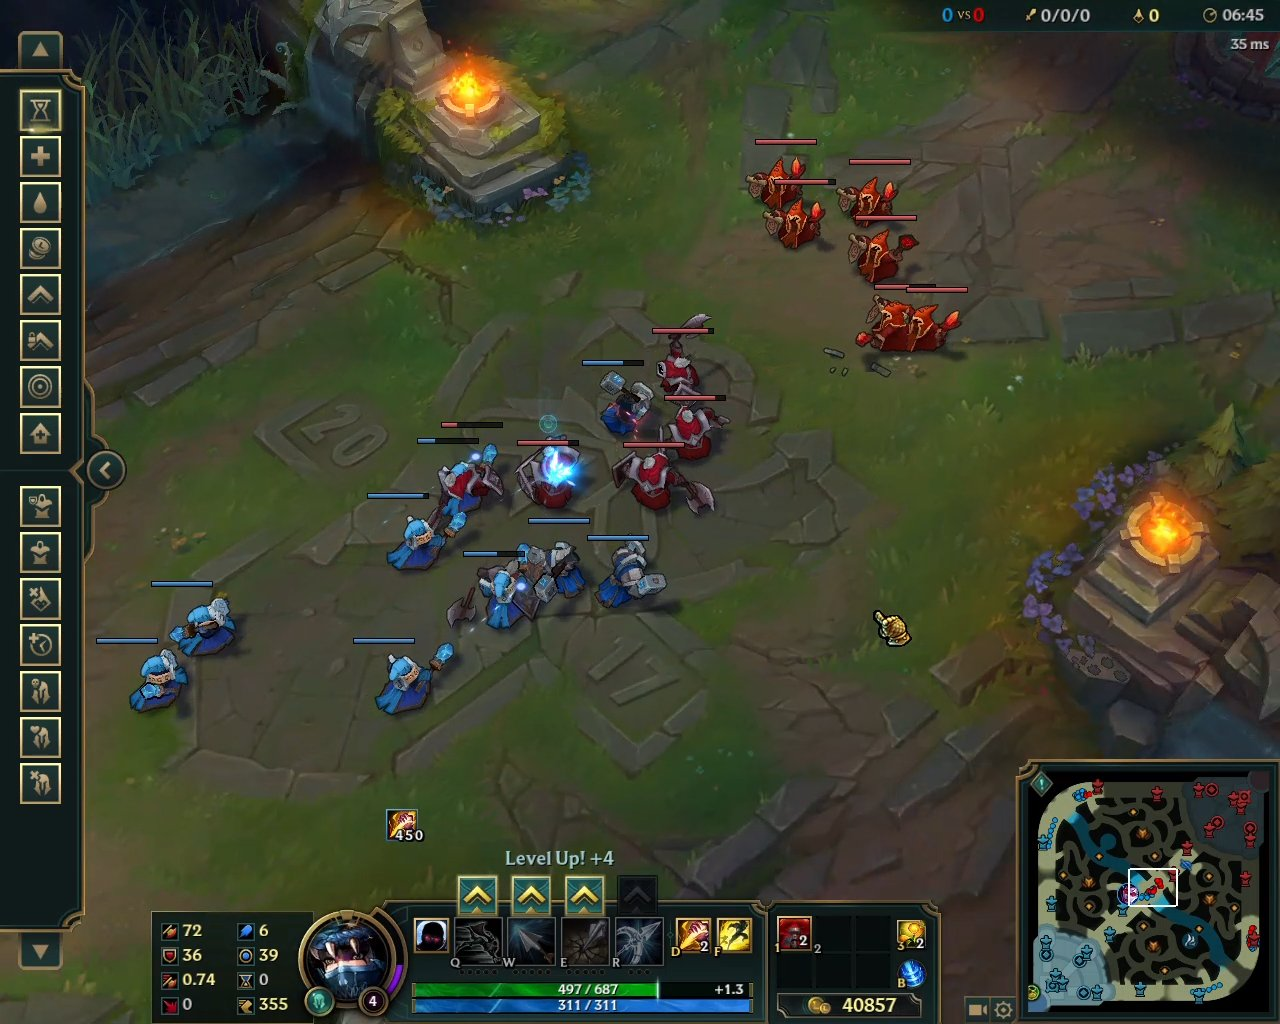EnemyMinion: (610, 442, 718, 518), (649, 313, 722, 404), (851, 274, 923, 360), (757, 180, 835, 256), (654, 391, 734, 462), (834, 159, 912, 230), (744, 138, 821, 207), (845, 214, 920, 285), (446, 421, 508, 501), (519, 438, 584, 507), (904, 287, 965, 350)
